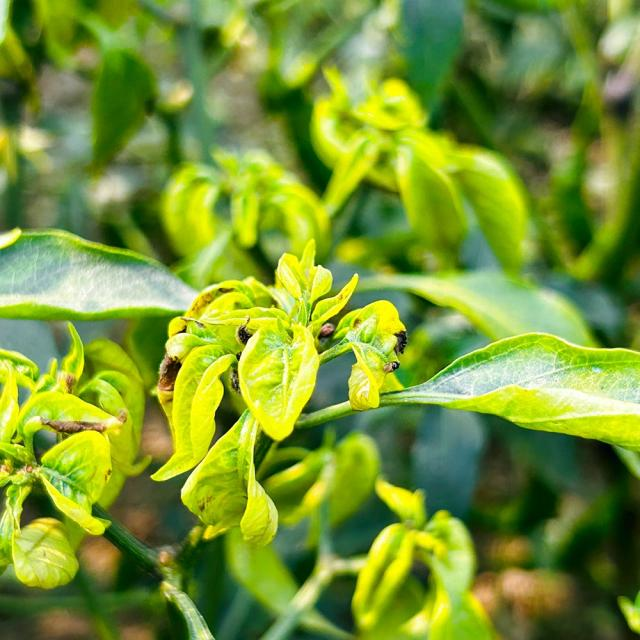Chilli_Leaf_Curl: (1, 4, 638, 636), (149, 238, 408, 547), (308, 67, 530, 278), (0, 320, 145, 590), (356, 330, 638, 452), (158, 147, 332, 289), (350, 479, 496, 638), (0, 225, 200, 321), (236, 316, 320, 442)
